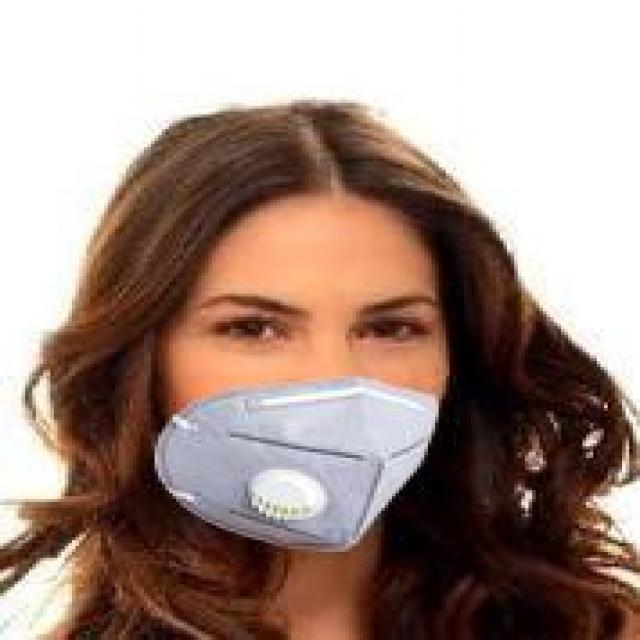mask: (108, 53, 528, 564)
